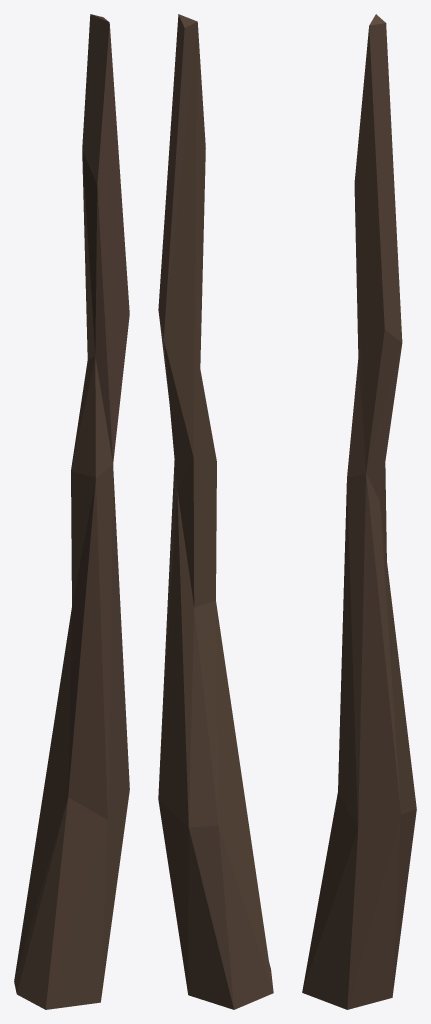
The model's file is Taiga_Tronc2.fbx.
3 renders of one model, left to right at view 1: azimuth 30°, elevation 25°; view 2: azimuth 210°, elevation 25°; view 3: azimuth 330°, elevation 25°, orthographic.
Visible parts, largest first — view 1: Vert.004; view 2: Vert.004; view 3: Vert.004.
Boxes of the visible parts, box(x1,y1,x2,y2) form: Vert.004: box(14, 14, 129, 1009); Vert.004: box(158, 14, 273, 1009); Vert.004: box(302, 14, 416, 1009).
Bounding box in the file's own units: 45.56 × 415 × 35.12.
